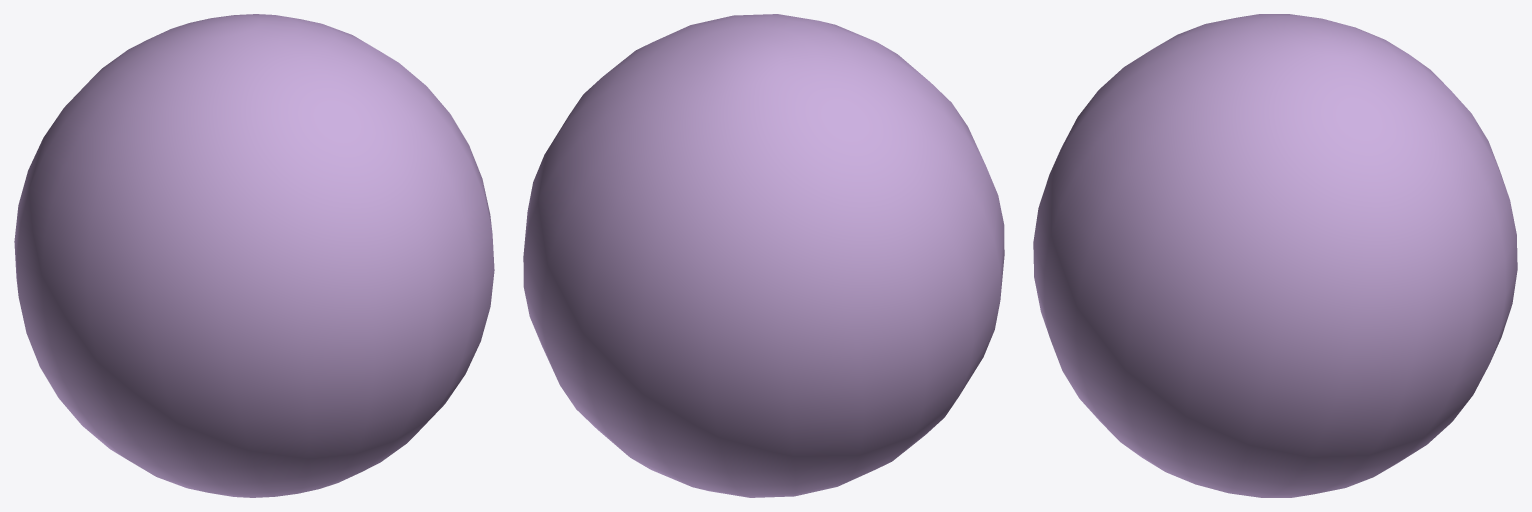
The model's file is ball.fbx.
3 renders of one model, left to right at view 1: azimuth 30°, elevation 25°; view 2: azimuth 150°, elevation 25°; view 3: azimuth 270°, elevation 25°, orthographic.
Visible parts, largest first — view 1: CentralSphere.001; view 2: CentralSphere.001; view 3: CentralSphere.001.
Boxes of the visible parts, x1,y1,x2,y2 form: CentralSphere.001: (14,14,494,497); CentralSphere.001: (523,14,1004,497); CentralSphere.001: (1033,14,1517,497).
Size of the model in its own units: 11.42 by 11.41 by 11.41.
